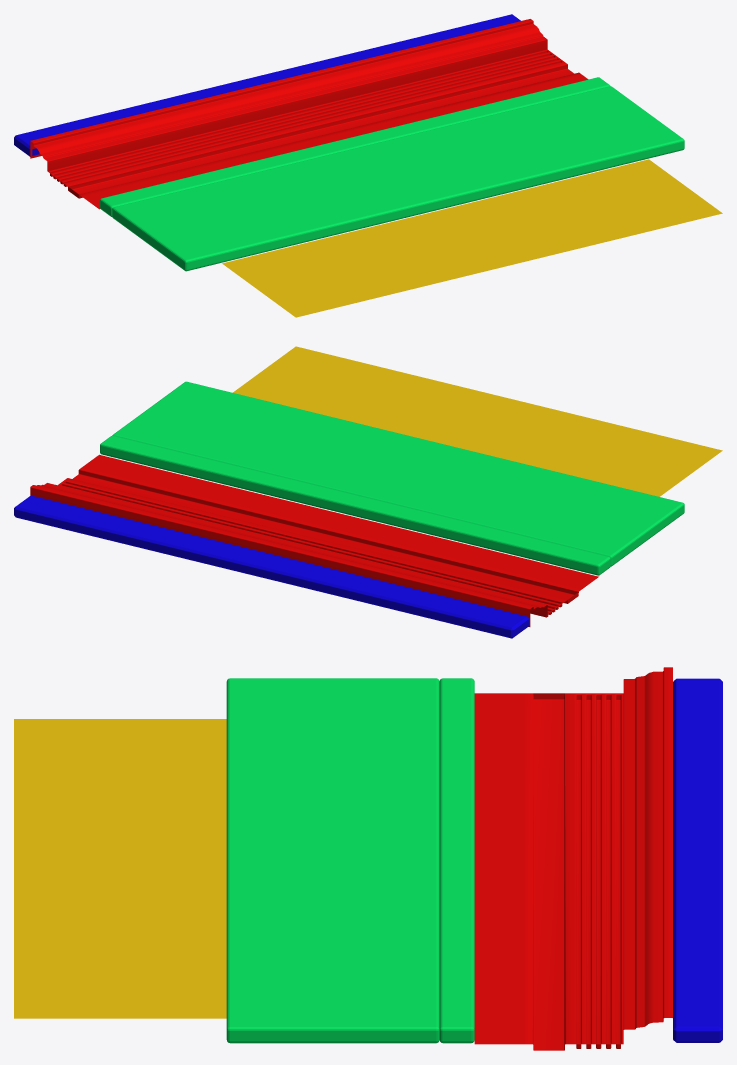
The model's file is trimHigh.fbx.
3 views of the same model, one above another, from view 1: azimuth 30°, elevation 25°; view 2: azimuth 150°, elevation 25°; view 3: azimuth 270°, elevation 25° (orthographic). The views are drawn at different scales.
Parts seen in each view (by area): view 1: doorWood, Stone, Window, paintedWood, Metal; view 2: doorWood, Stone, Window, Metal, paintedWood; view 3: doorWood, Stone, Window, Metal, paintedWood.
Boxes of the visible parts, x1=… form: doorWood: x1=112, y1=86, x2=684, y2=271; Stone: x1=30, y1=19, x2=588, y2=209; Window: x1=222, y1=159, x2=722, y2=317; paintedWood: x1=100, y1=77, x2=610, y2=216; Metal: x1=14, y1=14, x2=520, y2=156; doorWood: x1=112, y1=381, x2=684, y2=566; Stone: x1=30, y1=454, x2=598, y2=626; Window: x1=233, y1=346, x2=722, y2=496; Metal: x1=14, y1=495, x2=528, y2=638; paintedWood: x1=100, y1=435, x2=610, y2=575; doorWood: x1=226, y1=678, x2=439, y2=1043; Stone: x1=474, y1=667, x2=672, y2=1050; Window: x1=14, y1=719, x2=226, y2=1018; Metal: x1=673, y1=678, x2=722, y2=1042; paintedWood: x1=439, y1=678, x2=474, y2=1043.
Bounding box in the file's own units: 2.34 × 0.1019 × 2.
